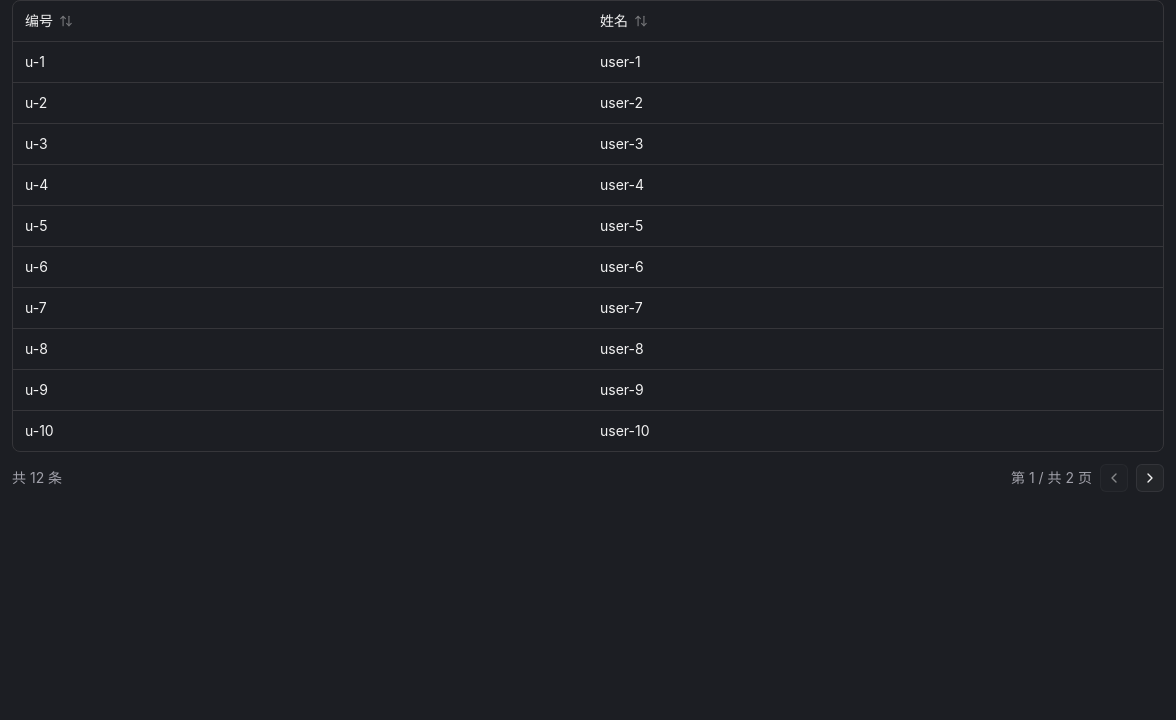
Test: c-table › switches pages with the pagination controls
Expected: the text "user-10" is shown, [588,410,1163,450]
Expected: the text "user-11" is not shown
Click the button named "下一页" at (1150, 478), box [1136,464,1164,492]
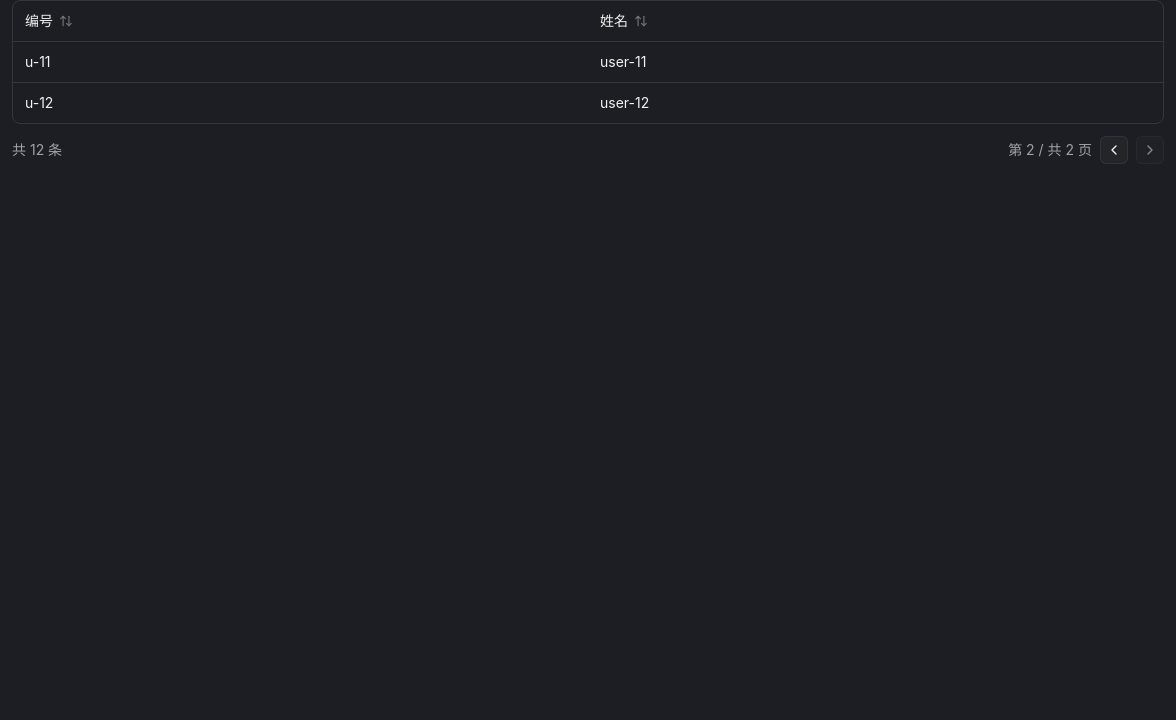
Expected: the text "user-11" is shown, [588,41,1163,82]
Expected: the text "user-12" is shown, [588,82,1163,122]
Expected: the text "第 2 / 共 2 页" is shown, [1008,140,1092,160]
Click the button named "上一页" at (1114, 150), box [1100,136,1128,164]
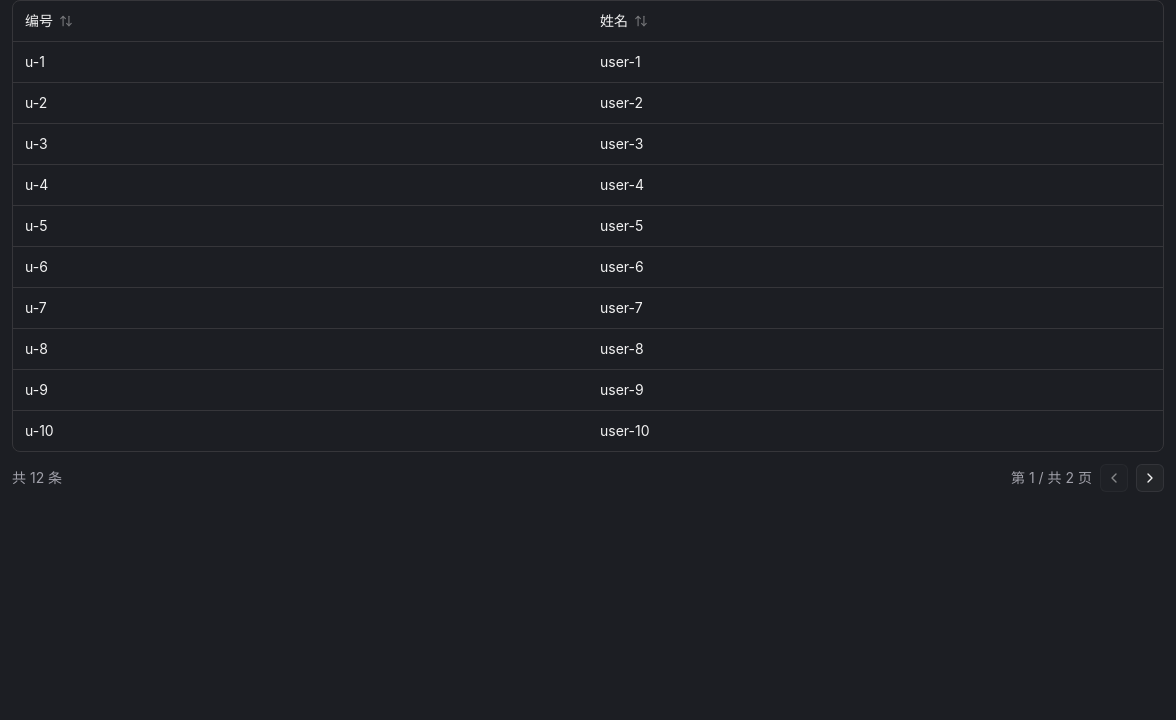
Expected: the text "user-1" is shown, [588,41,1163,82]
Expected: the text "user-11" is gone
